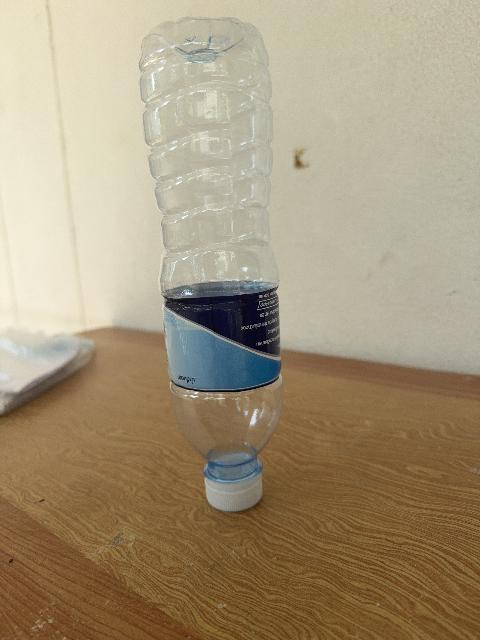bottle: (140, 18, 282, 511)
